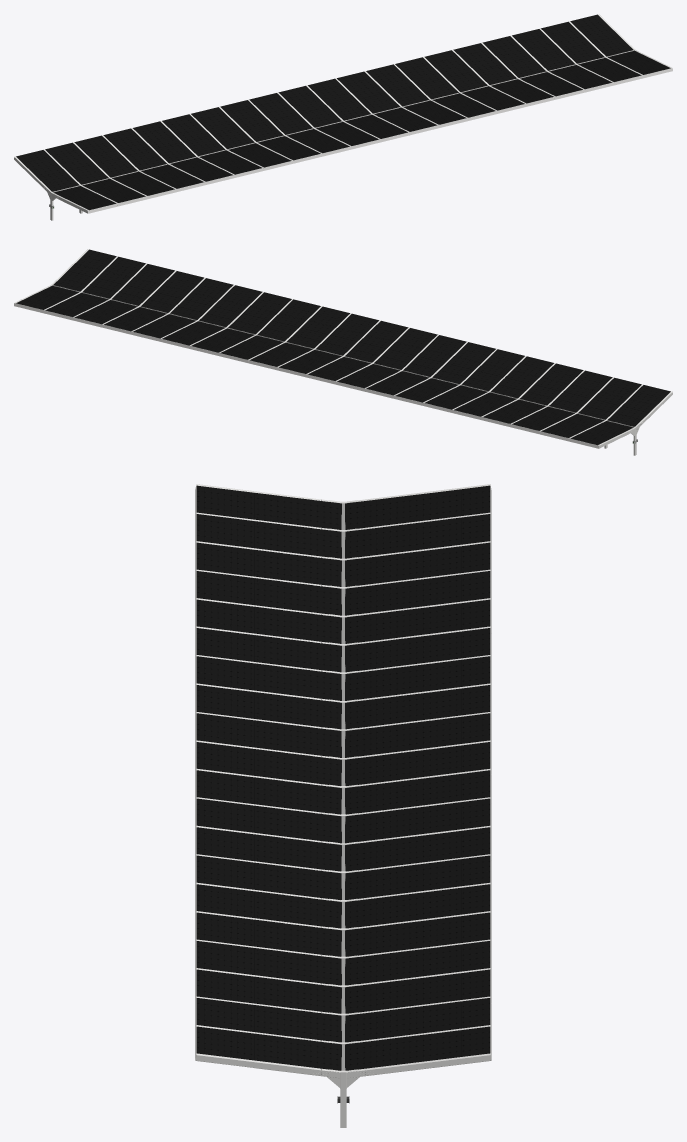
The model's file is Pac_40.glb.
3 renders of one model, top to bottom at view 1: azimuth 30°, elevation 25°; view 2: azimuth 150°, elevation 25°; view 3: azimuth 270°, elevation 25°, orthographic. The views are drawn at different scales.
Visible parts, largest first — view 1: Left.118, Left.065, Left.106, Left.024, Left.275, Left.260, Left.036, Left.077, Left.012, Left.053, Left.094, Left.245 (+5 smaller); view 2: Left.118, Left.065, Left.024, Left.106, Left.260, Left.077, Left.275, Left.036, Left.012, Left.094, Left.053, Left.245 (+5 smaller); view 3: Left.036, Left.077, Left.065, Left.275, Left.024, Left.106, Left.118, Left.260, Left.245, Left.012, Left.094, Left.053 (+9 smaller).
Boxes of the visible parts, x1,y1,x2,y2 form: Left.118: [16, 142, 145, 210]; Left.065: [220, 93, 349, 160]; Left.106: [74, 128, 203, 195]; Left.024: [366, 57, 495, 124]; Left.275: [453, 36, 582, 103]; Left.260: [512, 21, 641, 89]; Left.036: [308, 71, 436, 138]; Left.077: [162, 107, 291, 174]; Left.012: [425, 50, 524, 110]; Left.053: [278, 86, 378, 145]; Left.094: [133, 121, 232, 181]; Left.245: [570, 14, 670, 74]; Left.118: [541, 377, 670, 445]; Left.065: [337, 328, 466, 395]; Left.024: [191, 292, 320, 359]; Left.106: [483, 363, 612, 430]; Left.260: [45, 256, 174, 324]; Left.077: [395, 342, 524, 409]; Left.275: [104, 271, 233, 338]; Left.036: [250, 306, 378, 373]; Left.012: [162, 285, 261, 345]; Left.094: [454, 356, 553, 416]; Left.053: [308, 321, 408, 380]; Left.245: [16, 249, 116, 309]; Left.036: [196, 770, 490, 843]; Left.077: [196, 628, 490, 700]; Left.065: [196, 685, 490, 757]; Left.275: [196, 912, 490, 985]; Left.024: [196, 827, 490, 899]; Left.106: [196, 542, 490, 615]; Left.118: [196, 485, 490, 558]; Left.260: [196, 969, 490, 1042]; Left.245: [196, 1026, 490, 1070]; Left.012: [196, 884, 490, 928]; Left.094: [196, 599, 490, 643]; Left.053: [196, 742, 490, 785].
Size of the model in its own units: 52.82 by 3.15 by 11.57.
18 materials, 15 textured.
